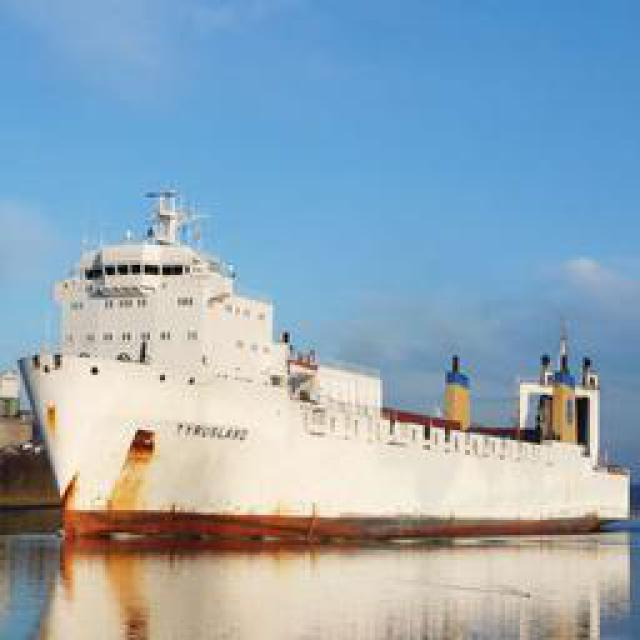Ship: (25, 168, 618, 533)
